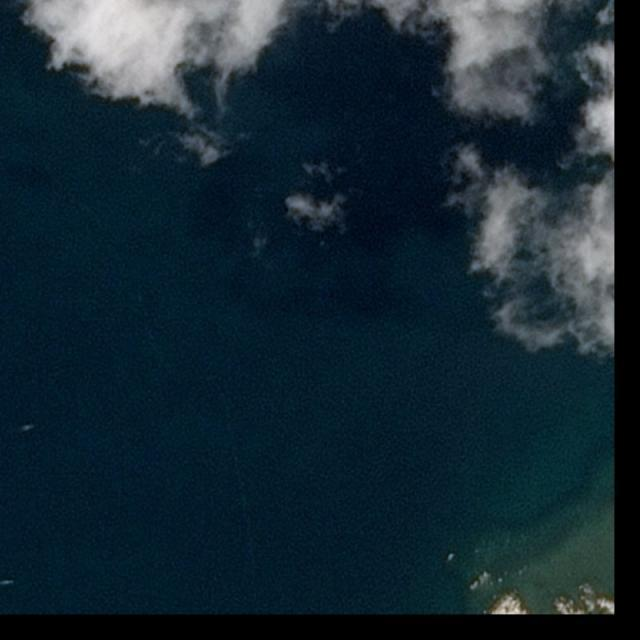ship: (21, 423, 36, 433), (1, 579, 12, 585)
